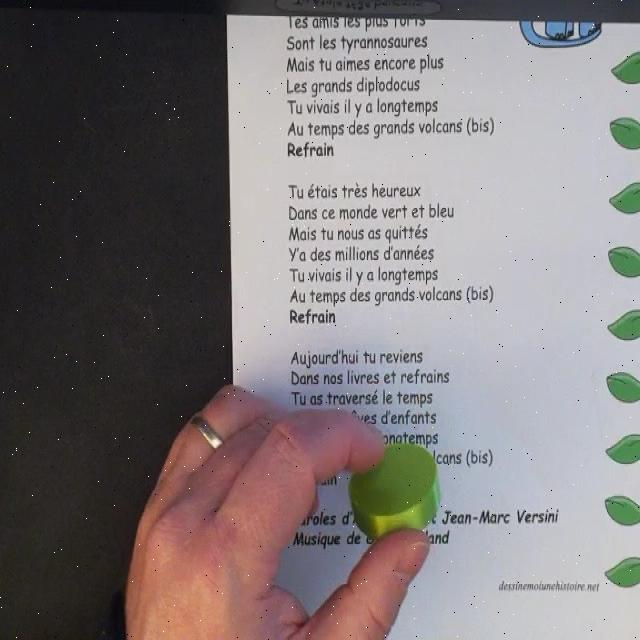round: (347, 443, 441, 538)
